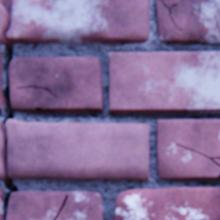brick: (110, 53, 219, 114), (10, 58, 103, 113), (157, 121, 219, 180), (115, 188, 219, 219), (157, 0, 219, 45), (7, 192, 103, 219), (0, 53, 3, 111), (0, 188, 3, 219)
broken_brick: (7, 120, 149, 180), (8, 0, 149, 45), (0, 131, 5, 180), (0, 5, 6, 45)
crack: (0, 0, 18, 218), (176, 144, 219, 167), (160, 0, 176, 27), (55, 195, 68, 219), (25, 87, 55, 96)
